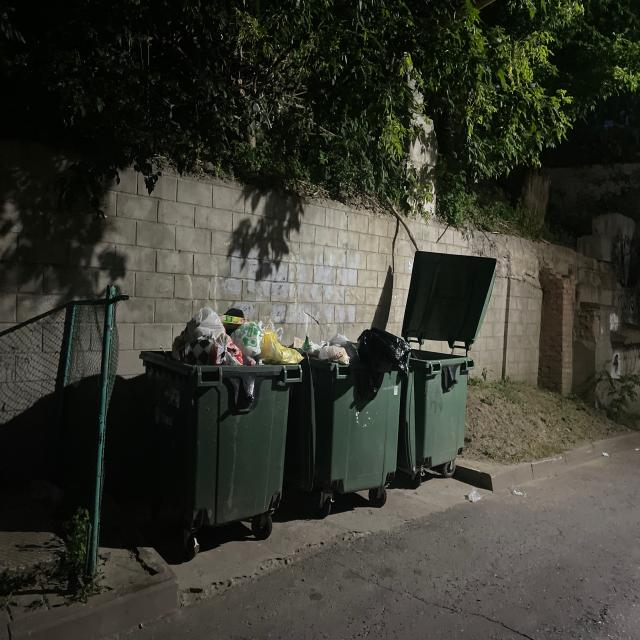bin: (143, 350, 299, 530), (293, 366, 404, 494), (412, 360, 469, 466)
trash: (166, 310, 302, 363)
